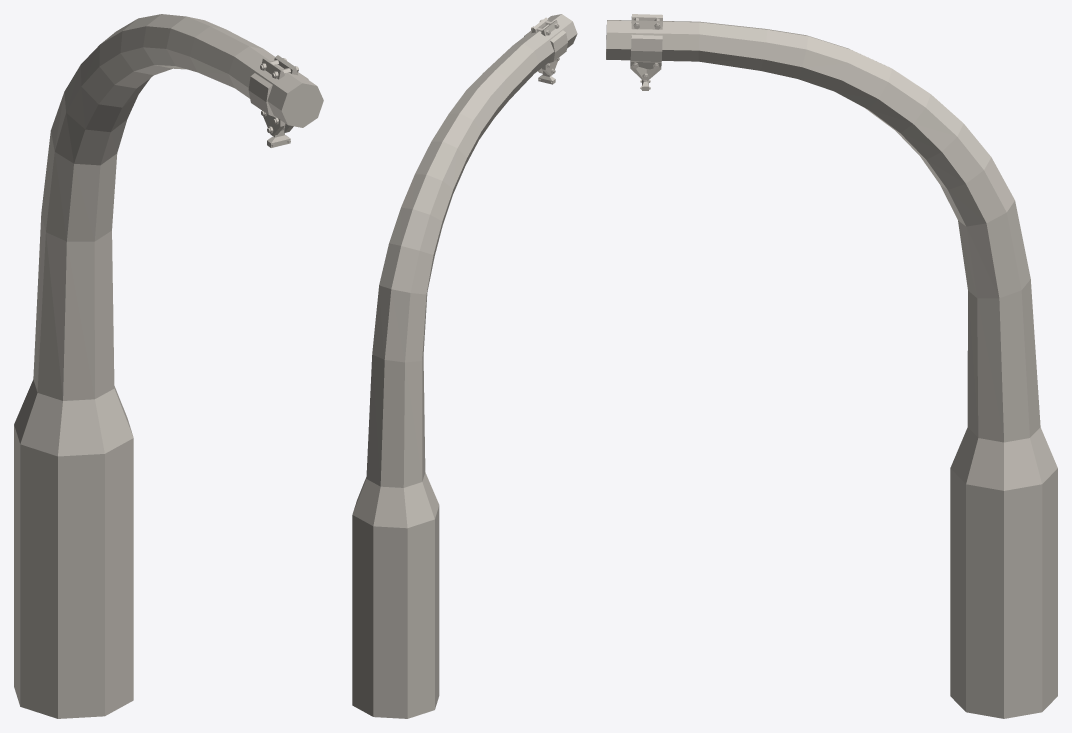
The model's file is Bracket8a.obj.
3 renders of one model, left to right at view 1: azimuth 30°, elevation 25°; view 2: azimuth 150°, elevation 25°; view 3: azimuth 270°, elevation 25°, orthographic. The views are drawn at different scales.
Parts seen in each view (by area): view 1: obj40; view 2: obj40; view 3: obj40.
Boxes of the visible parts, bbox=[...] form: obj40: bbox=[14, 14, 323, 718]; obj40: bbox=[352, 14, 577, 718]; obj40: bbox=[606, 14, 1057, 718].
Bounding box in the file's own units: 0.3 × 2.09 × 1.26.
Materials: 1 (1 with a texture image).
